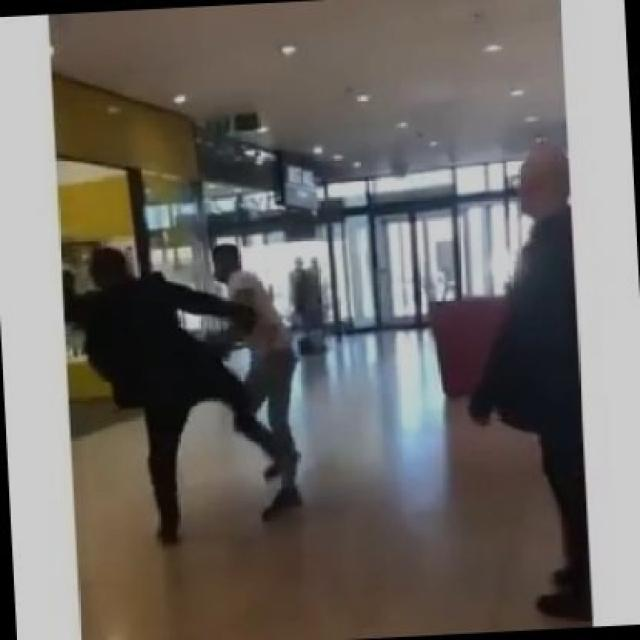fight: (62, 248, 319, 546)
